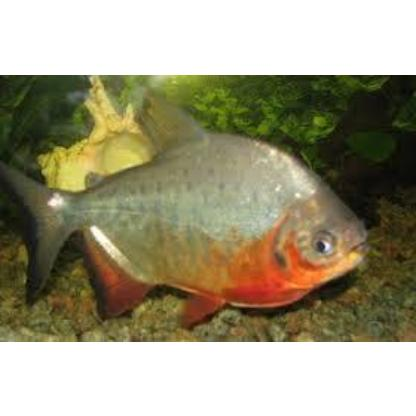ikan-pacu: (22, 117, 370, 318)
